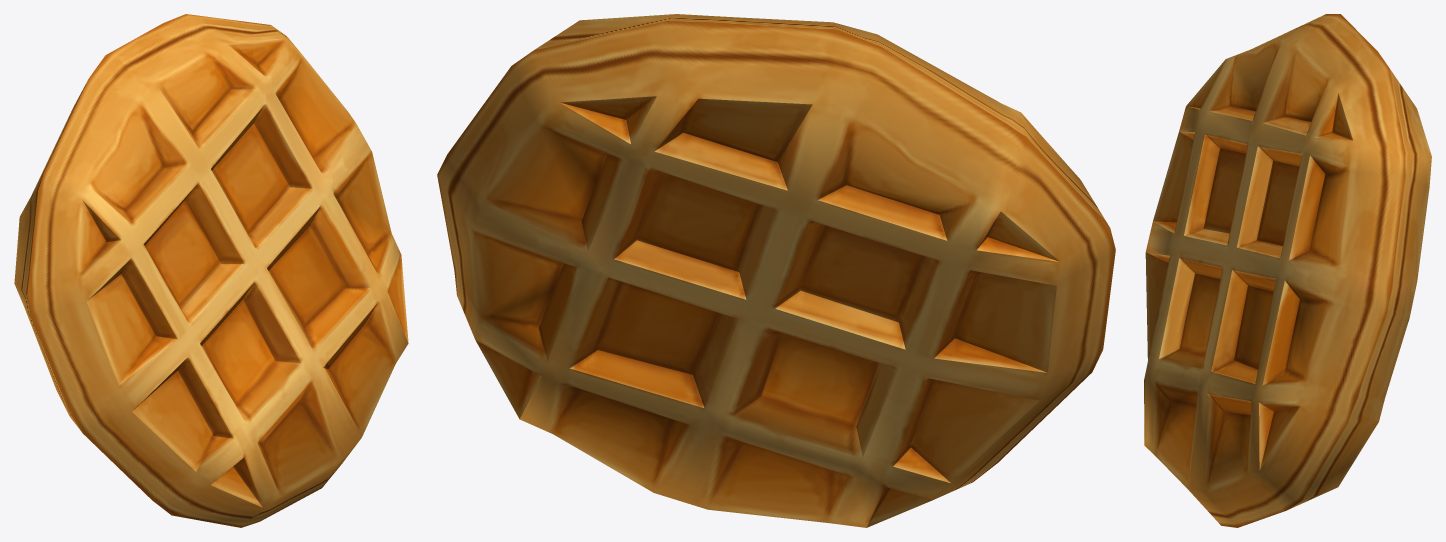
The model's file is waffle.FBX.
3 views of the same model, side by side, from view 1: azimuth 30°, elevation 25°; view 2: azimuth 150°, elevation 25°; view 3: azimuth 270°, elevation 25° (orthographic). The views are drawn at different scales.
Visible parts, largest first — view 1: waffle; view 2: waffle; view 3: waffle.
Part boxes in pixels (<box>): waffle: <box>14,14,408,527</box>; waffle: <box>437,14,1115,527</box>; waffle: <box>1144,14,1431,527</box>.
Size of the model in its own units: 5.11 by 4.97 by 2.97.
